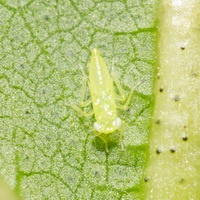insect: (65, 48, 141, 170), (65, 48, 141, 151)
